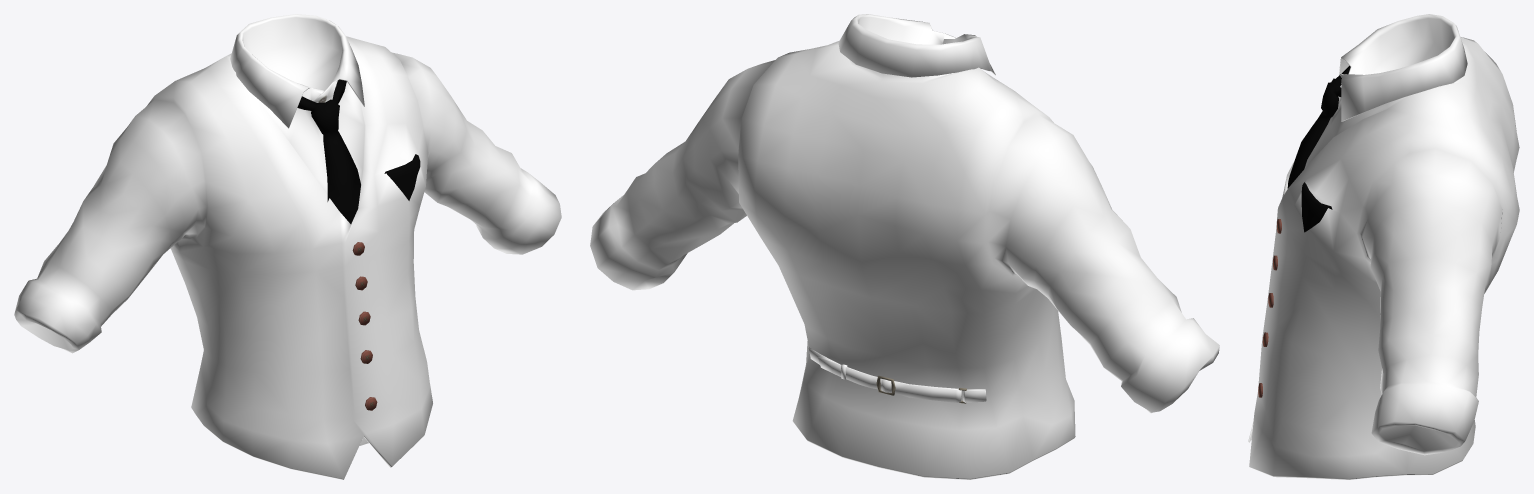
File: SurvivorMale_Chest_Vest_GQ_LOD0.glb
3 renders of one model, left to right at view 1: azimuth 30°, elevation 25°; view 2: azimuth 150°, elevation 25°; view 3: azimuth 270°, elevation 25°, orthographic. The views are drawn at different scales.
Visible parts, largest first — view 1: Hoodie; view 2: Hoodie; view 3: Hoodie.
Part boxes in pixels (box(x1,y1,x2,y2)): Hoodie: box(14, 14, 561, 479); Hoodie: box(590, 14, 1219, 479); Hoodie: box(1248, 14, 1519, 479).
Bounding box in the file's own units: 0.8635 × 0.6068 × 0.3556.
Materials: 1 (1 with a texture image).
